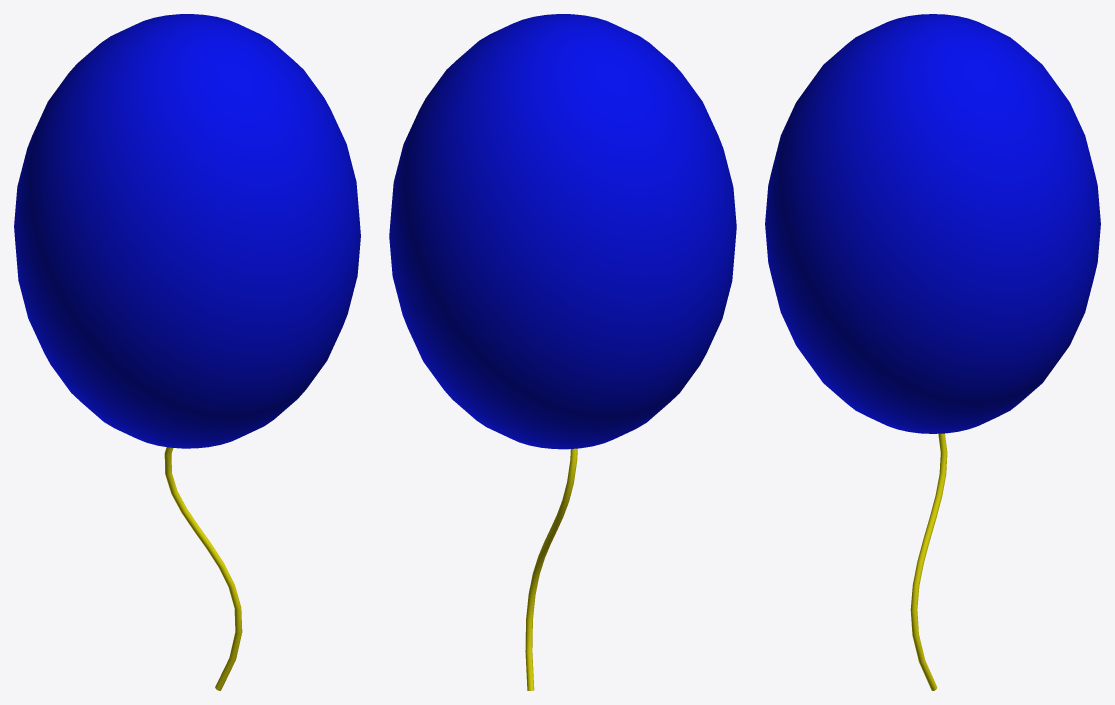
3 renders of one model, left to right at view 1: azimuth 30°, elevation 25°; view 2: azimuth 150°, elevation 25°; view 3: azimuth 270°, elevation 25°, orthographic. The views are drawn at different scales.
Parts seen in each view (by area): view 1: 球, ベジエカーブ; view 2: 球, ベジエカーブ; view 3: 球, ベジエカーブ.
Part boxes in pixels (left/top/right/bottom): 球: left=14, top=14, right=360, bottom=448; ベジエカーブ: left=164, top=447, right=242, bottom=690; 球: left=389, top=14, right=736, bottom=449; ベジエカーブ: left=525, top=448, right=577, bottom=690; 球: left=765, top=14, right=1100, bottom=433; ベジエカーブ: left=910, top=433, right=947, bottom=690.
Bounding box in the file's own units: 2 × 4.26 × 2.
